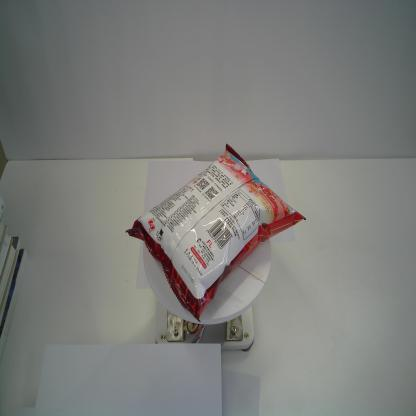Puffed Food: (126, 141, 307, 324)
